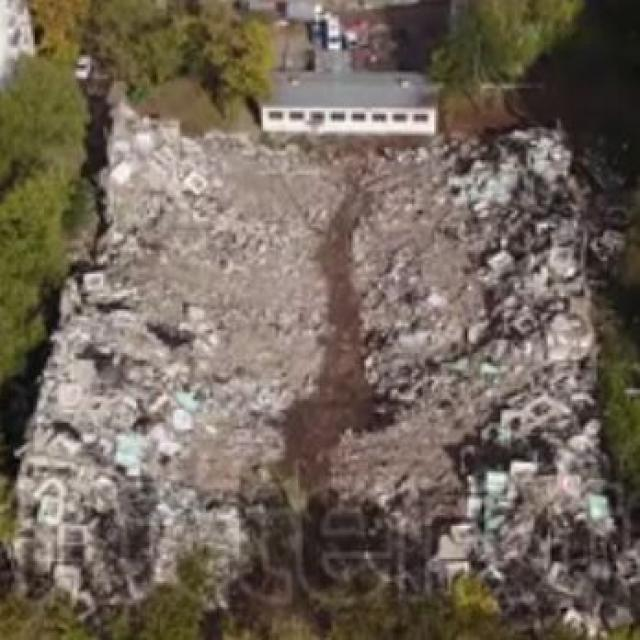collapsed_building: (17, 110, 592, 590)
